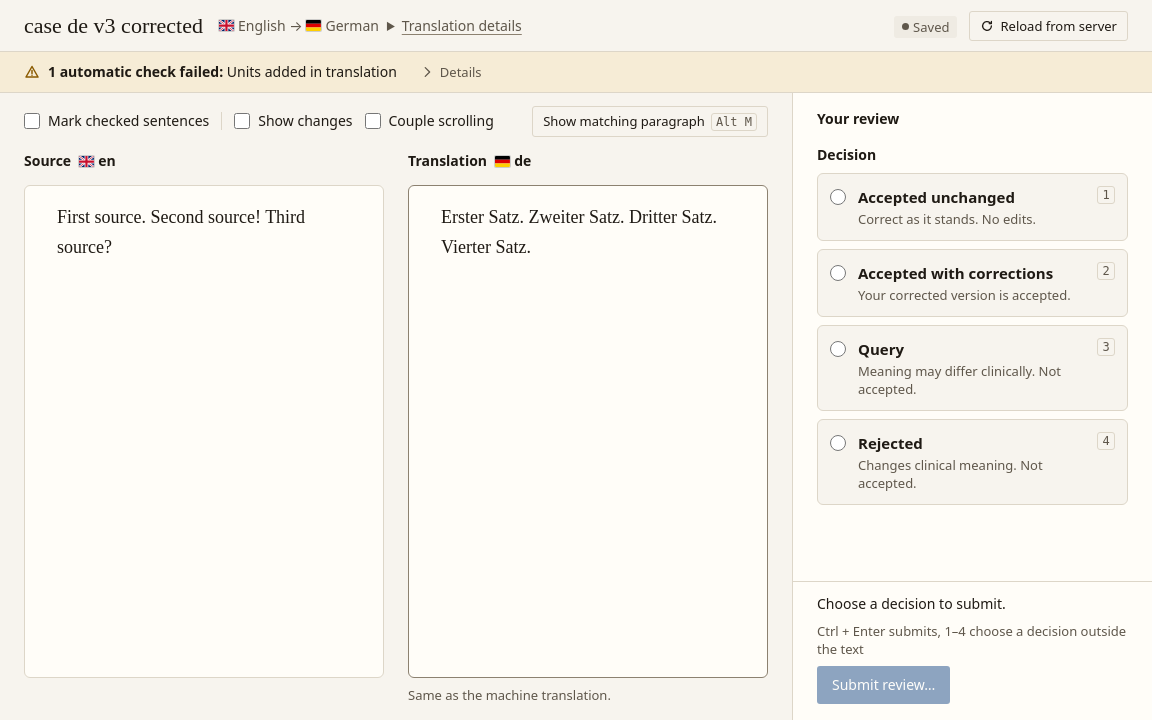
Test: Mark checked sentences › is off by default: texts behave as today and the choice is remembered
Expected: the text box named "Translation (de)" is shown, [409,186,767,677]
Expected: the button "Next unchecked" is not shown
Click the checkbox labelled "Mark checked sentences". click: [32, 121]
box: [24,113,40,129]
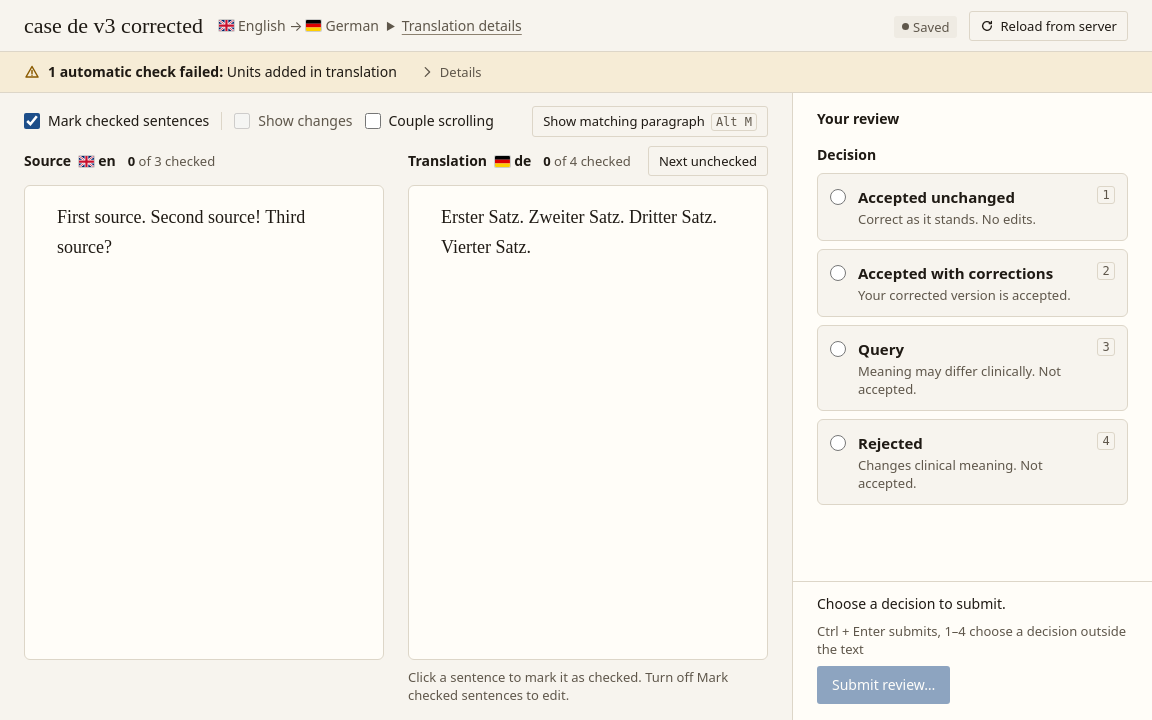
Now the checkbox labelled "Show changes" is disabled, box [234,113,250,129]
Click the checkbox labelled "Mark checked sentences". click: [32, 121]
box: [24,113,40,129]
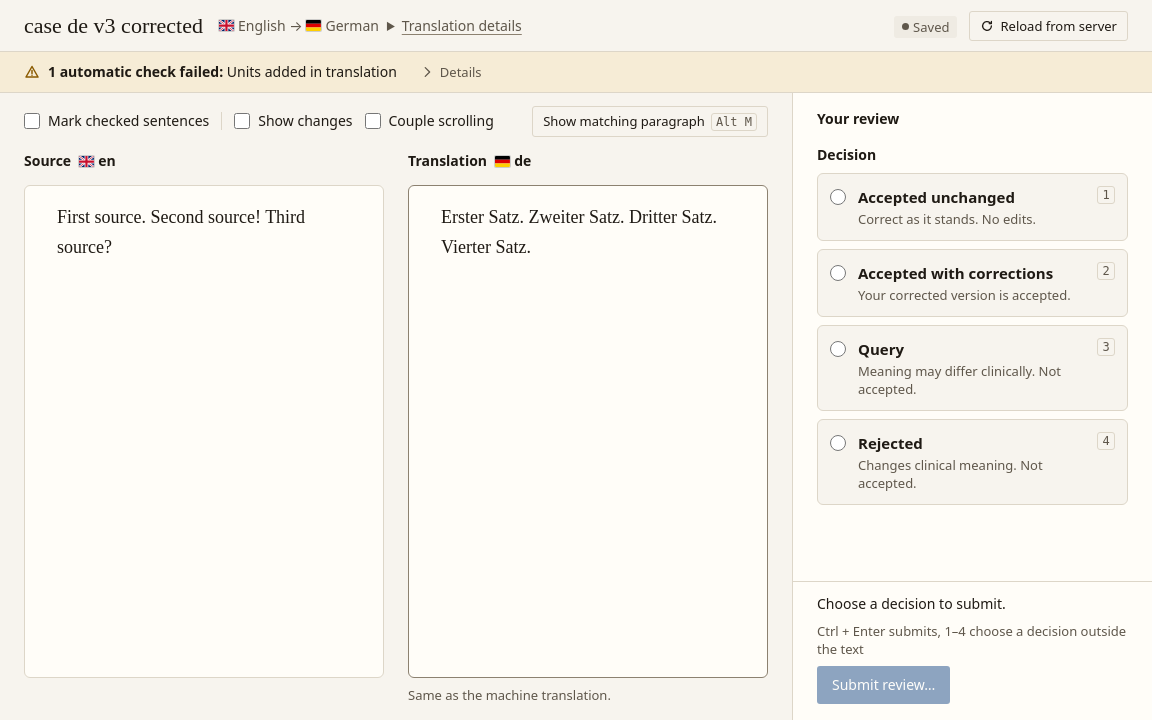
Now the text box named "Translation (de)" is shown, box [409,186,767,677]
